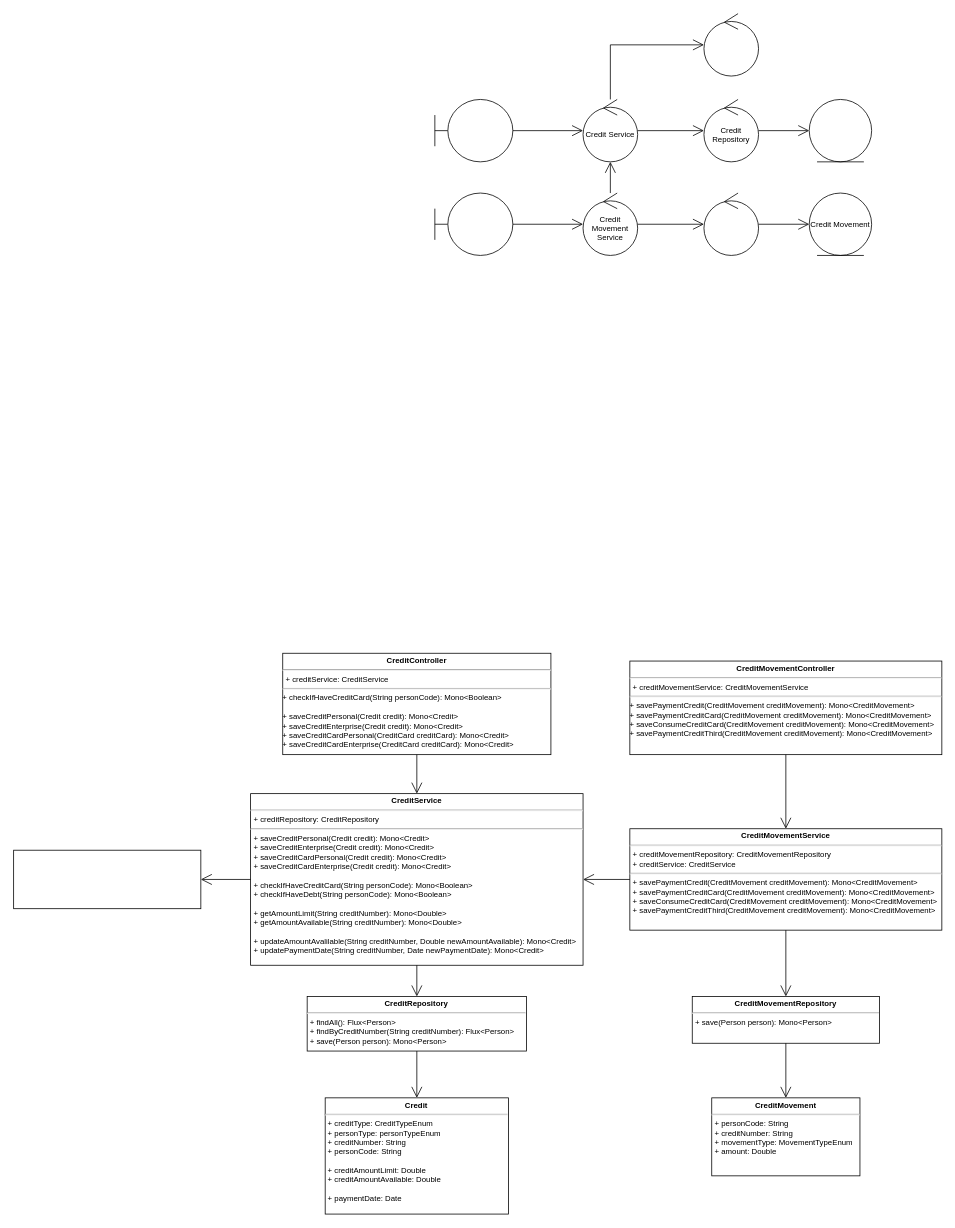
Image size: 955x1228. Some labels were removed from this diagram. The box of each missing label's shape, as (x1, y1, x2, y2) in pixels:
Credit: (808, 99, 872, 162)
Credit Controller: (434, 99, 513, 162)
Credit Movement Controller: (434, 192, 513, 255)
Credit Movement Repository: (703, 192, 759, 255)
Credit Publisher: (703, 13, 759, 76)
CreditPublisher + kafka: Kafka + updateReport(String personCode): Mono<Void>: (13, 849, 201, 909)
